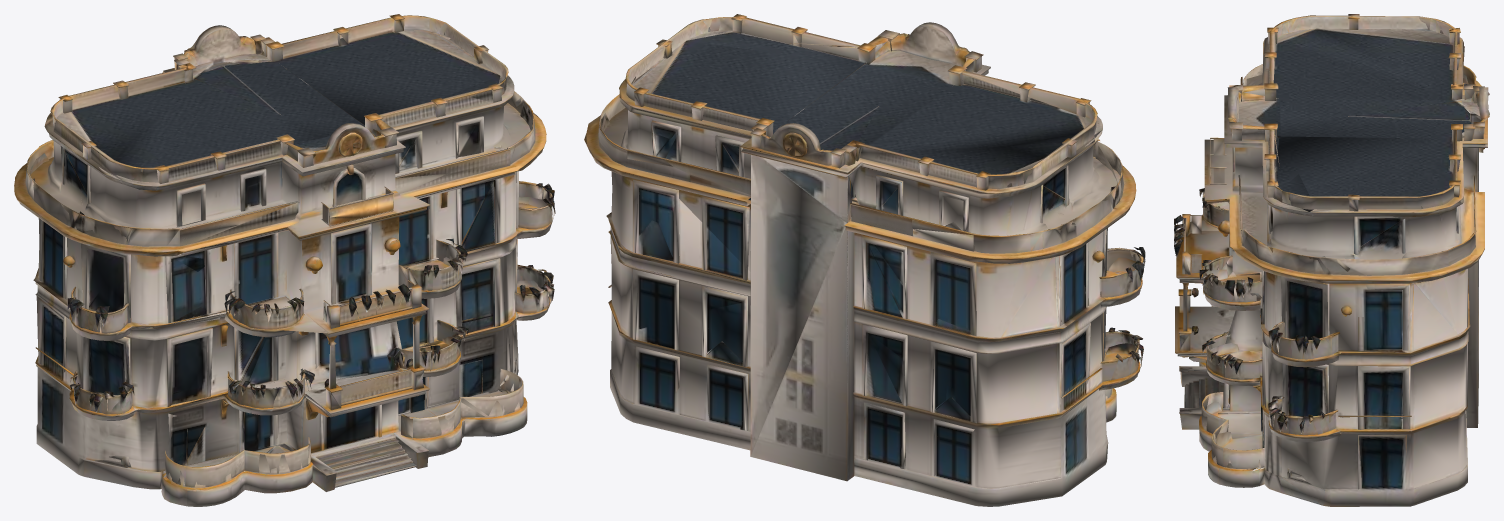
3 renders of one model, left to right at view 1: azimuth 30°, elevation 25°; view 2: azimuth 150°, elevation 25°; view 3: azimuth 270°, elevation 25°, orthographic. The views are drawn at different scales.
Size of the model in its own units: 0.9526 by 0.6337 by 0.5722.
1 material, 1 textured.
